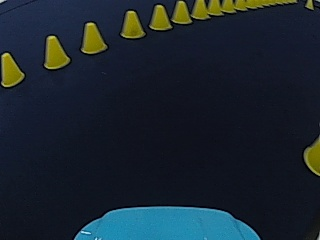cone: (42, 33, 70, 69), (79, 21, 107, 54), (0, 51, 24, 86), (120, 9, 144, 39), (303, 136, 318, 176), (148, 4, 171, 30), (171, 0, 192, 24), (191, 0, 208, 19), (207, 0, 222, 15), (221, 0, 235, 12), (235, 0, 246, 11)
